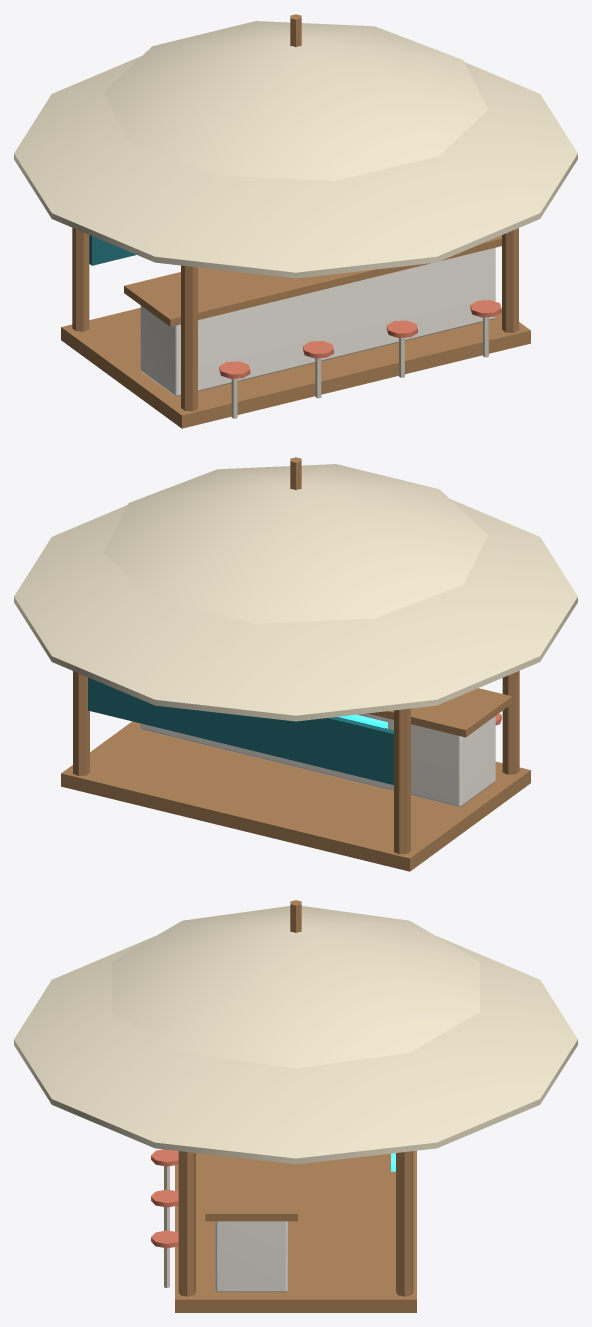
File: beach_bar.glb
3 renders of one model, top to bottom at view 1: azimuth 30°, elevation 25°; view 2: azimuth 150°, elevation 25°; view 3: azimuth 270°, elevation 25°, orthographic.
Visible parts, largest first — view 1: beach_bar; view 2: beach_bar; view 3: beach_bar.
Part boxes in pixels (x1,y1,x2,y2): beach_bar: [14, 14, 577, 428]; beach_bar: [14, 457, 577, 871]; beach_bar: [14, 900, 577, 1312].
Size of the model in its own units: 7 by 4.45 by 7.
